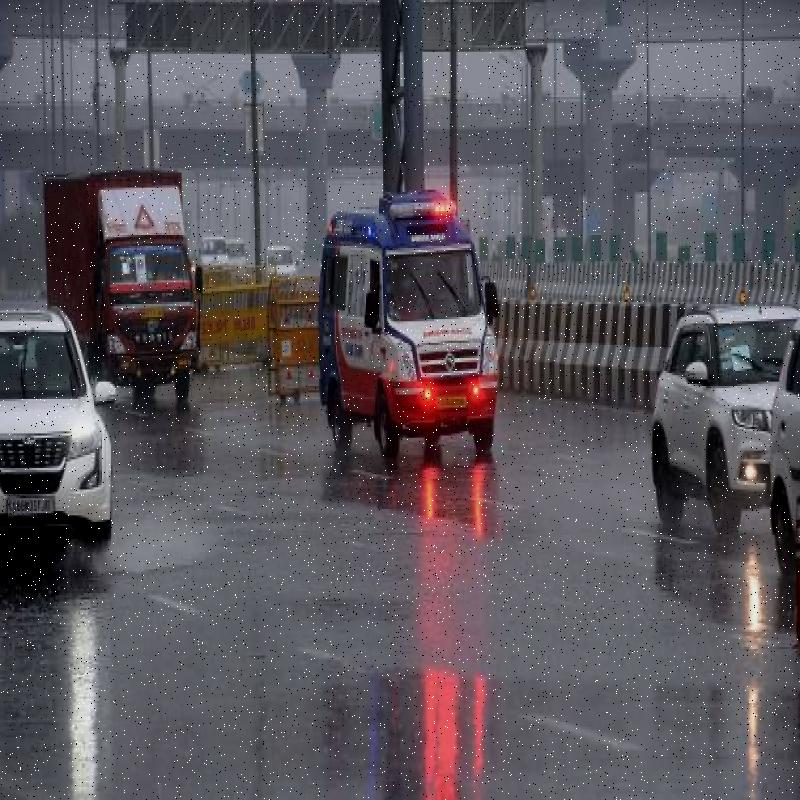ambulance: (320, 179, 511, 443)
